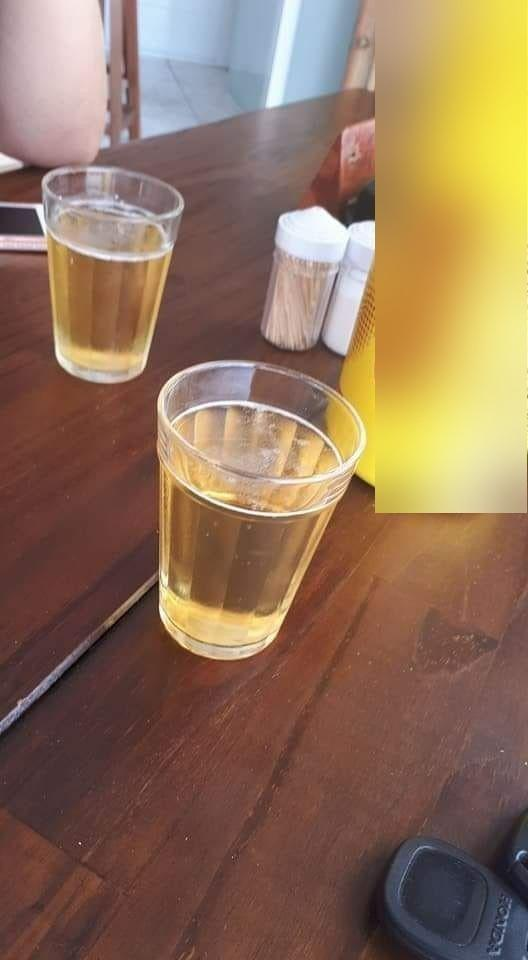glass-normal: (153, 358, 367, 661), (38, 164, 186, 384)
